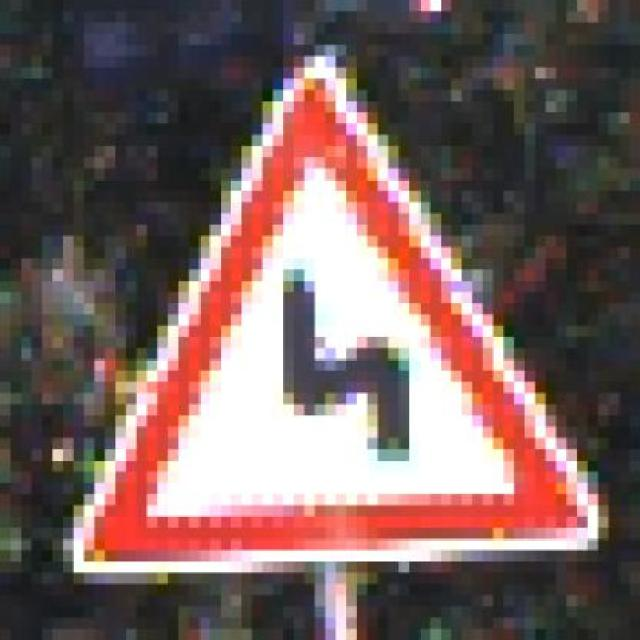Left Zig Zag Traffic: (62, 56, 608, 573)
